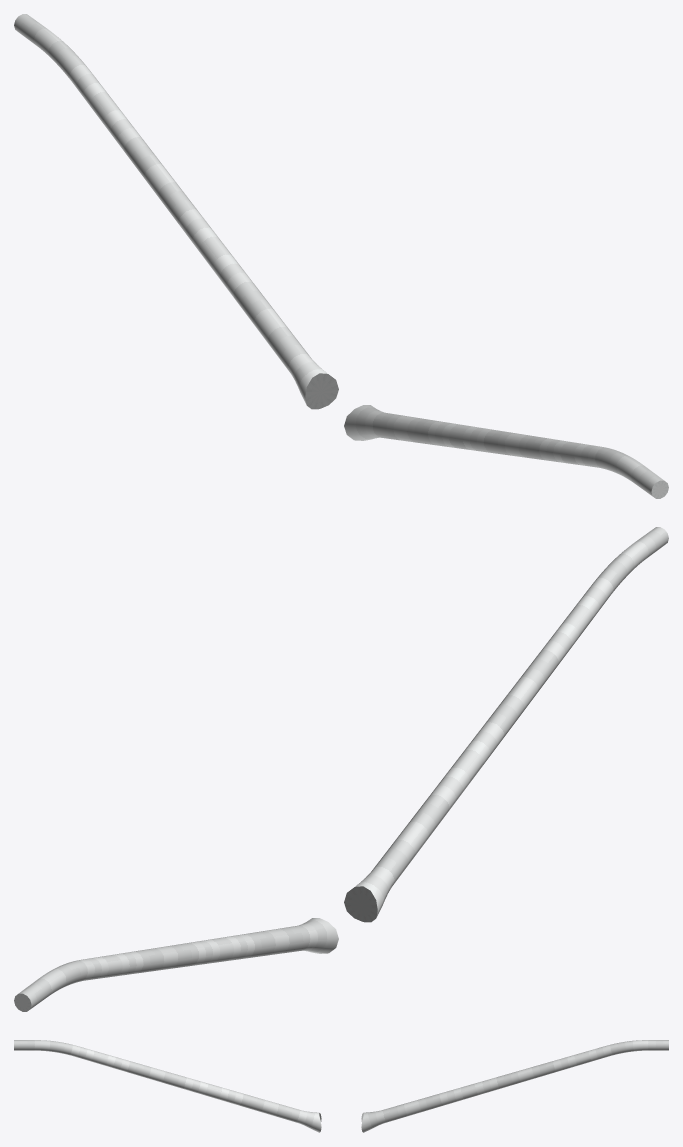
File: luminairearm_caltrans12ftstraightdouble_inv.obj
3 renders of one model, top to bottom at view 1: azimuth 30°, elevation 25°; view 2: azimuth 150°, elevation 25°; view 3: azimuth 270°, elevation 25°, orthographic. The views are drawn at different scales.
Visible parts, largest first — view 1: luminairearm_caltrans12ftstraightdouble_inv; view 2: luminairearm_caltrans12ftstraightdouble_inv; view 3: luminairearm_caltrans12ftstraightdouble_inv.
Boxes of the visible parts, <box> form: luminairearm_caltrans12ftstraightdouble_inv: <box>14,14,668,498</box>; luminairearm_caltrans12ftstraightdouble_inv: <box>14,527,668,1011</box>; luminairearm_caltrans12ftstraightdouble_inv: <box>14,1040,668,1132</box>.
Size of the model in its own units: 0.0307 by 0.154 by 1.
